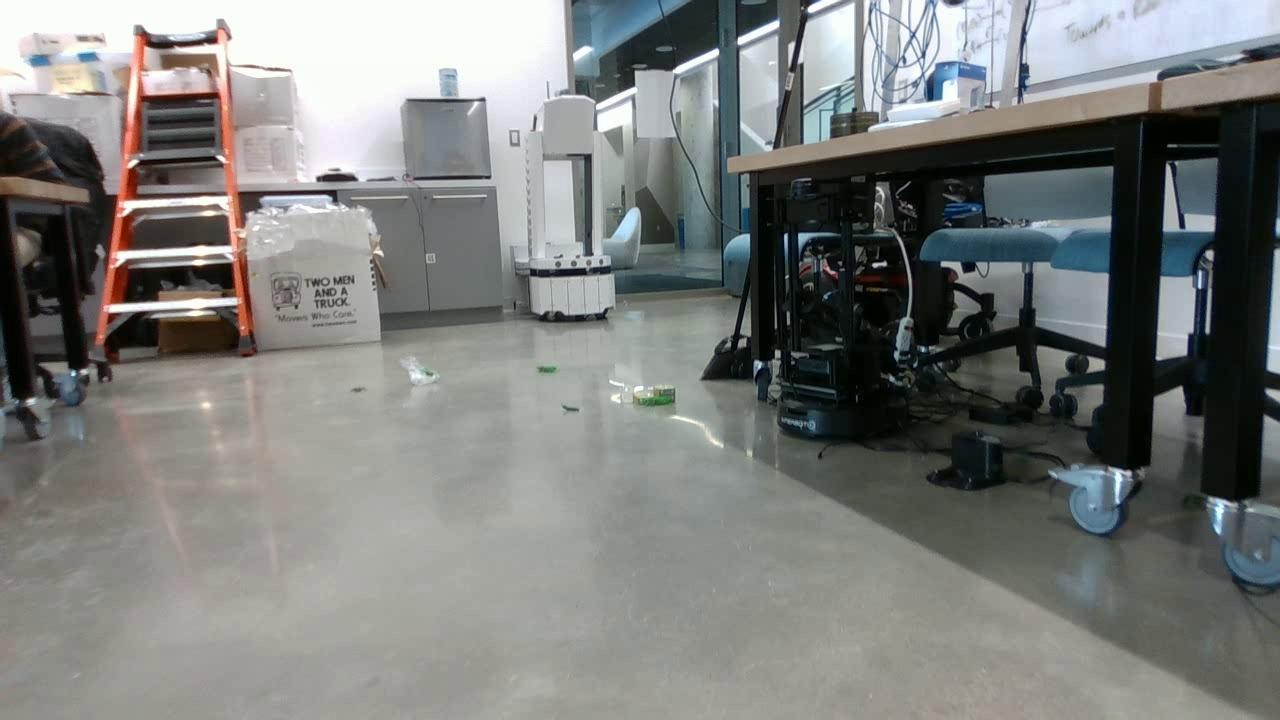grasshopper: (637, 396, 678, 405), (533, 366, 559, 373)
